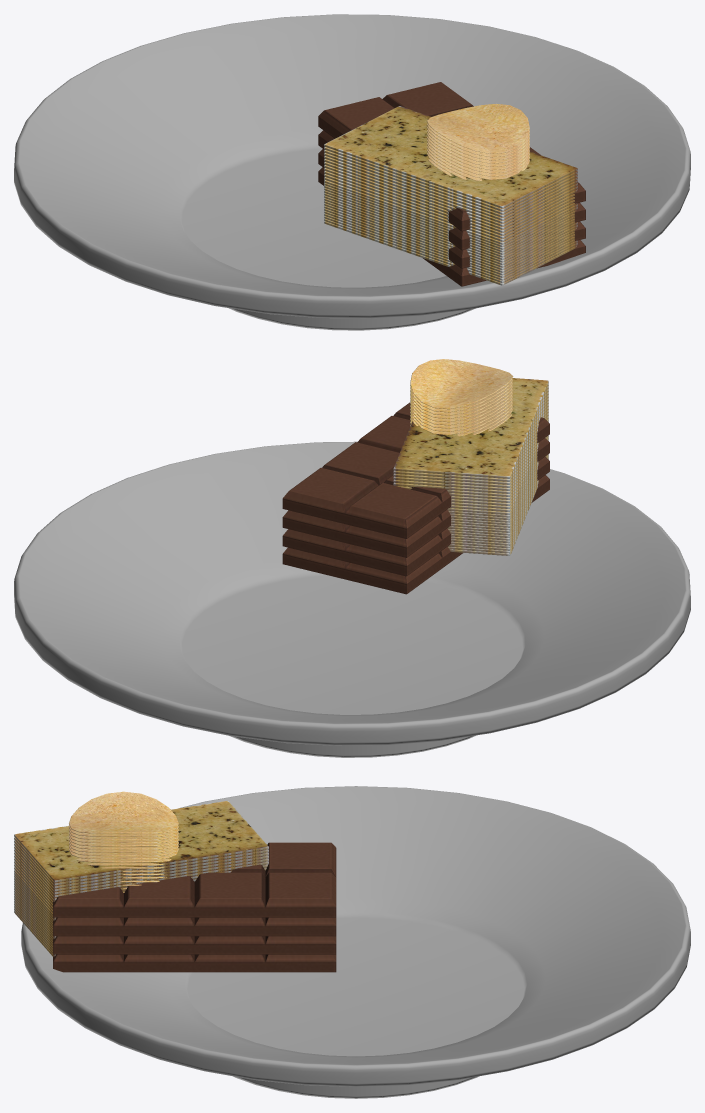
File: chaoshi_sw.fbx
3 renders of one model, top to bottom at view 1: azimuth 30°, elevation 25°; view 2: azimuth 150°, elevation 25°; view 3: azimuth 270°, elevation 25°, orthographic.
Visible parts, largest first — view 1: panzi, haitaibinggan28, qiaokeli3, shupian37, qiaokeli5, haitaibinggan25, haitaibinggan26, haitaibinggan24, haitaibinggan27, haitaibinggan23, haitaibinggan16, haitaibinggan22 (+23 smaller); view 2: panzi, qiaokeli3, haitaibinggan28, shupian37, qiaokeli2, qiaokeli5, qiaokeli1, haitaibinggan24, haitaibinggan25; view 3: panzi, qiaokeli3, haitaibinggan28, qiaokeli2, qiaokeli1, qiaokeli5, shupian37, haitaibinggan27, haitaibinggan24, haitaibinggan26, haitaibinggan25, haitaibinggan23.
Boxes of the visible parts, left/top/right/bottom form: panzi: left=14, top=14, right=690, bottom=330; haitaibinggan28: left=324, top=106, right=577, bottom=208; qiaokeli3: left=318, top=82, right=585, bottom=231; shupian37: left=427, top=103, right=529, bottom=153; qiaokeli5: left=318, top=167, right=585, bottom=286; haitaibinggan25: left=324, top=153, right=577, bottom=217; haitaibinggan26: left=324, top=150, right=577, bottom=214; haitaibinggan24: left=324, top=156, right=577, bottom=220; haitaibinggan27: left=324, top=147, right=577, bottom=211; haitaibinggan23: left=324, top=159, right=577, bottom=223; haitaibinggan16: left=324, top=180, right=577, bottom=244; haitaibinggan22: left=324, top=162, right=577, bottom=226; panzi: left=14, top=441, right=690, bottom=757; qiaokeli3: left=282, top=402, right=549, bottom=538; haitaibinggan28: left=393, top=378, right=548, bottom=478; shupian37: left=410, top=359, right=513, bottom=409; qiaokeli2: left=282, top=438, right=549, bottom=557; qiaokeli5: left=282, top=475, right=549, bottom=594; qiaokeli1: left=282, top=456, right=549, bottom=576; haitaibinggan24: left=393, top=392, right=548, bottom=490; haitaibinggan25: left=393, top=389, right=548, bottom=487; panzi: left=21, top=786, right=690, bottom=1098; qiaokeli3: left=53, top=842, right=336, bottom=917; haitaibinggan28: left=14, top=800, right=268, bottom=882; qiaokeli2: left=53, top=917, right=336, bottom=936; qiaokeli1: left=53, top=936, right=336, bottom=954; qiaokeli5: left=53, top=954, right=336, bottom=972; shupian37: left=69, top=791, right=178, bottom=833; haitaibinggan27: left=14, top=837, right=268, bottom=885; haitaibinggan24: left=14, top=846, right=268, bottom=894; haitaibinggan26: left=14, top=840, right=268, bottom=888; haitaibinggan25: left=14, top=843, right=268, bottom=891; haitaibinggan23: left=14, top=849, right=268, bottom=897.
Size of the model in its own units: 29.69 by 10.7 by 30.01.
